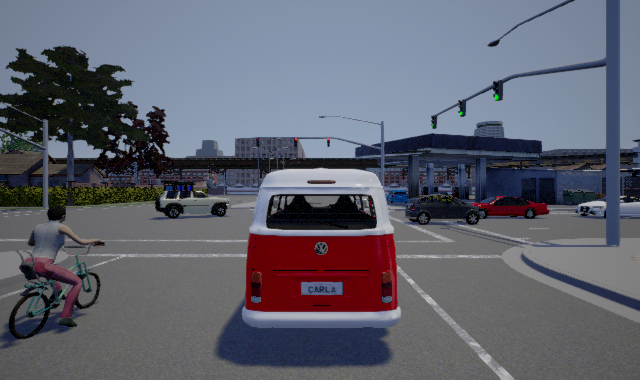bike: (3, 199, 113, 342)
traffic_light: (493, 80, 503, 101), (458, 99, 466, 117), (431, 115, 437, 129), (256, 137, 260, 147), (327, 137, 330, 147), (294, 137, 297, 147)
vehicle: (242, 167, 406, 328), (402, 190, 481, 225), (469, 195, 551, 222), (155, 190, 231, 219), (575, 190, 640, 218)
